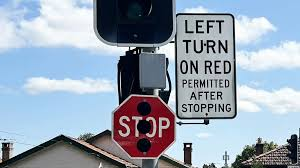stop sign: (112, 94, 176, 159)
